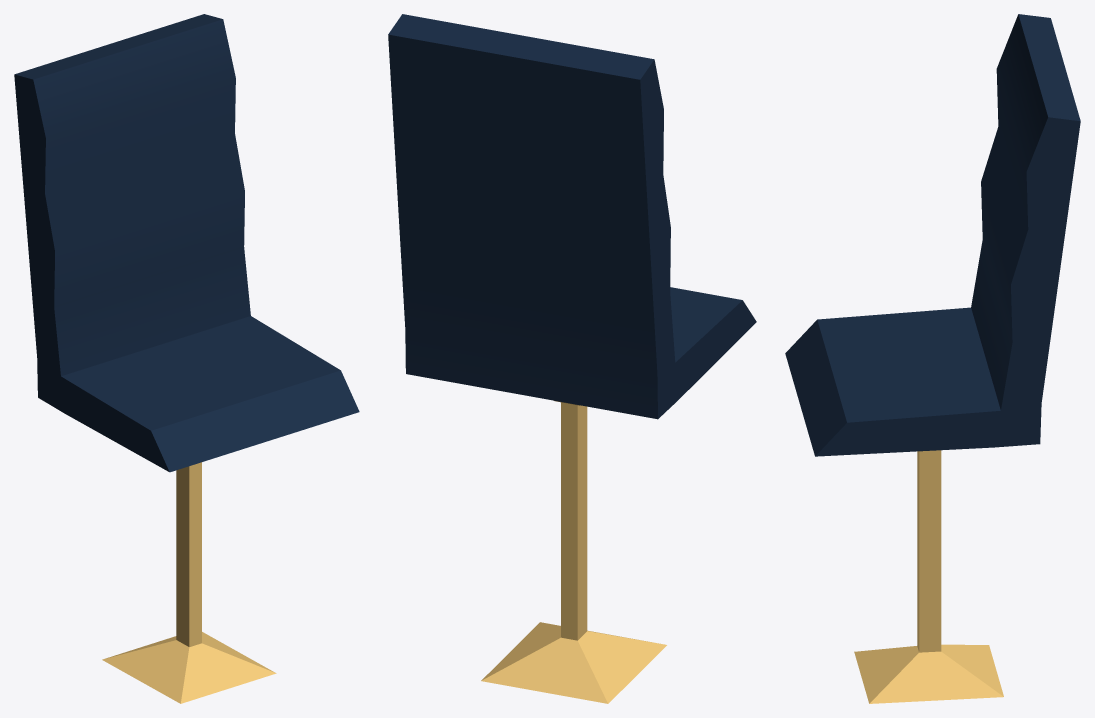
File: Chair.FBX
3 renders of one model, left to right at view 1: azimuth 30°, elevation 25°; view 2: azimuth 150°, elevation 25°; view 3: azimuth 270°, elevation 25°, orthographic. The views are drawn at different scales.
Parts seen in each view (by area): view 1: node_id4; view 2: node_id4; view 3: node_id4.
Boxes of the visible parts, x1,y1,x2,y2 form: node_id4: [14, 14, 359, 703]; node_id4: [388, 14, 756, 703]; node_id4: [785, 14, 1080, 703].
Bounding box in the file's own units: 2.38 × 5.72 × 2.54.
1 material, 1 textured.
